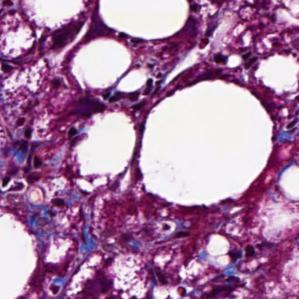inflammation: (193, 17, 261, 71), (0, 162, 42, 198), (149, 219, 196, 246), (227, 243, 265, 270)
